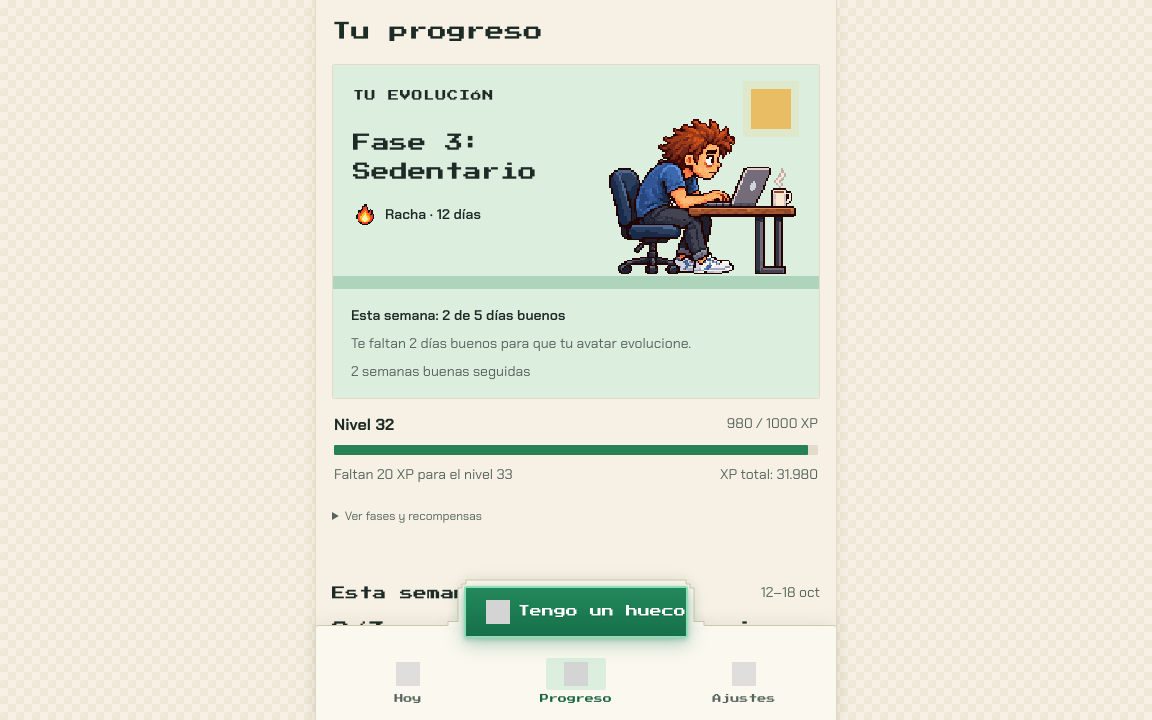
Scenario: Progress with some history › shows the evolution separately from the single XP bar and expands its phases
The width and height of the screenshot is (1152, 720).
Expected: the number of progress indicators is 1, [334,445,818,455]
Click the heading "Ver fases y recompensas": click(413, 516) [345,508,482,524]
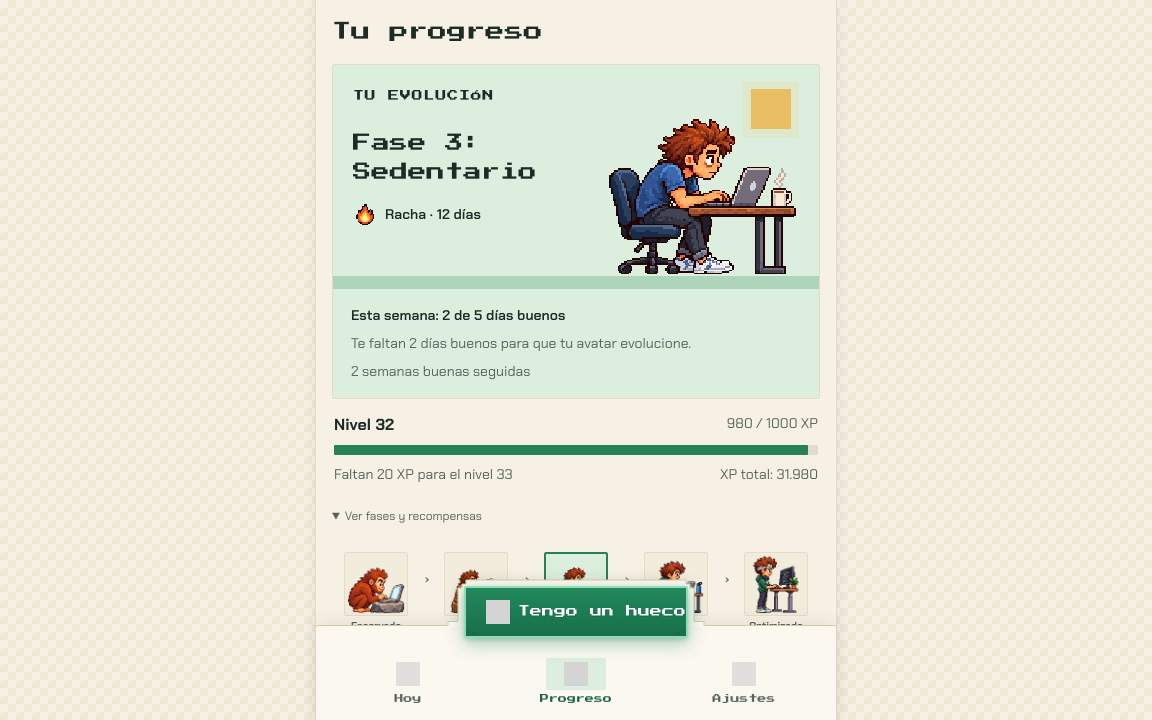
Expected: the list item "Sedentario" is shown, [532,552,620,632]
